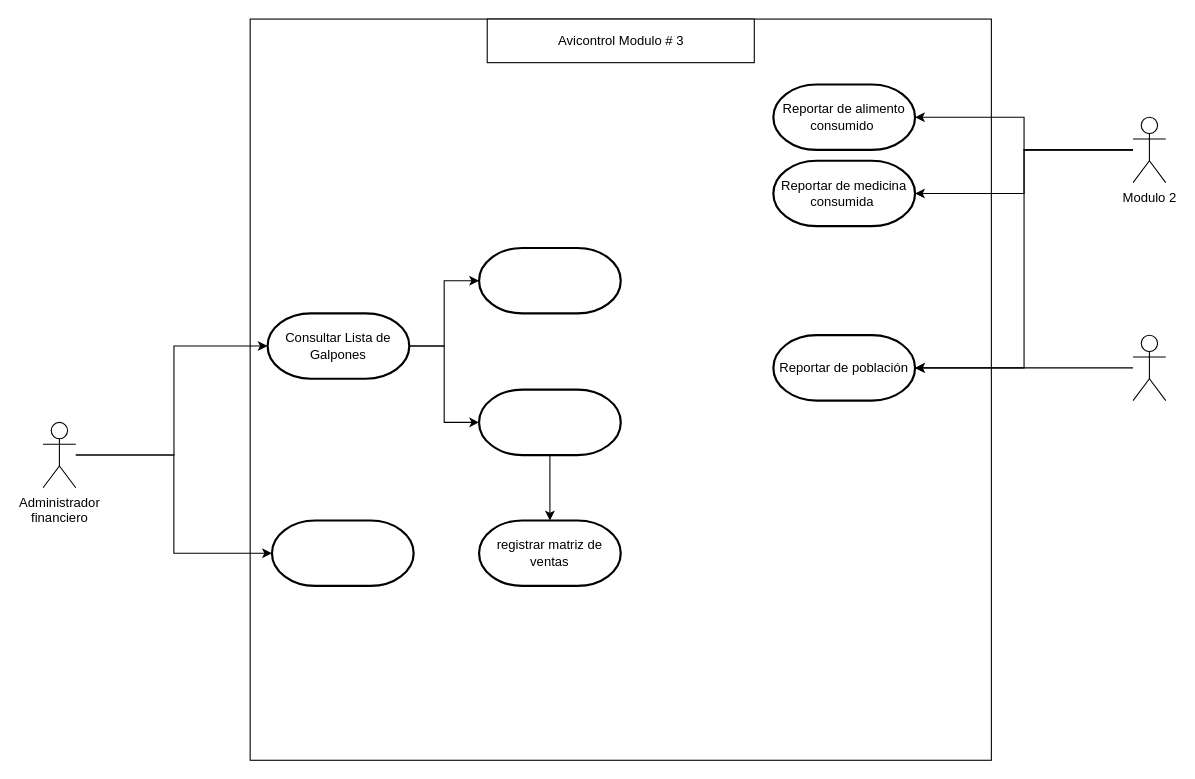
Image size: 1195x779. Some labels were removed from this diagram. The centre of each missing label's shape, as x and y in pixels:
"Consultar historial de reportes financieros" goes at (342,552).
"desglose de ventas y gastos" goes at (549,280).
"generar matriz de ventas" goes at (549,422).
"Modulo 1" goes at (1149,367).
